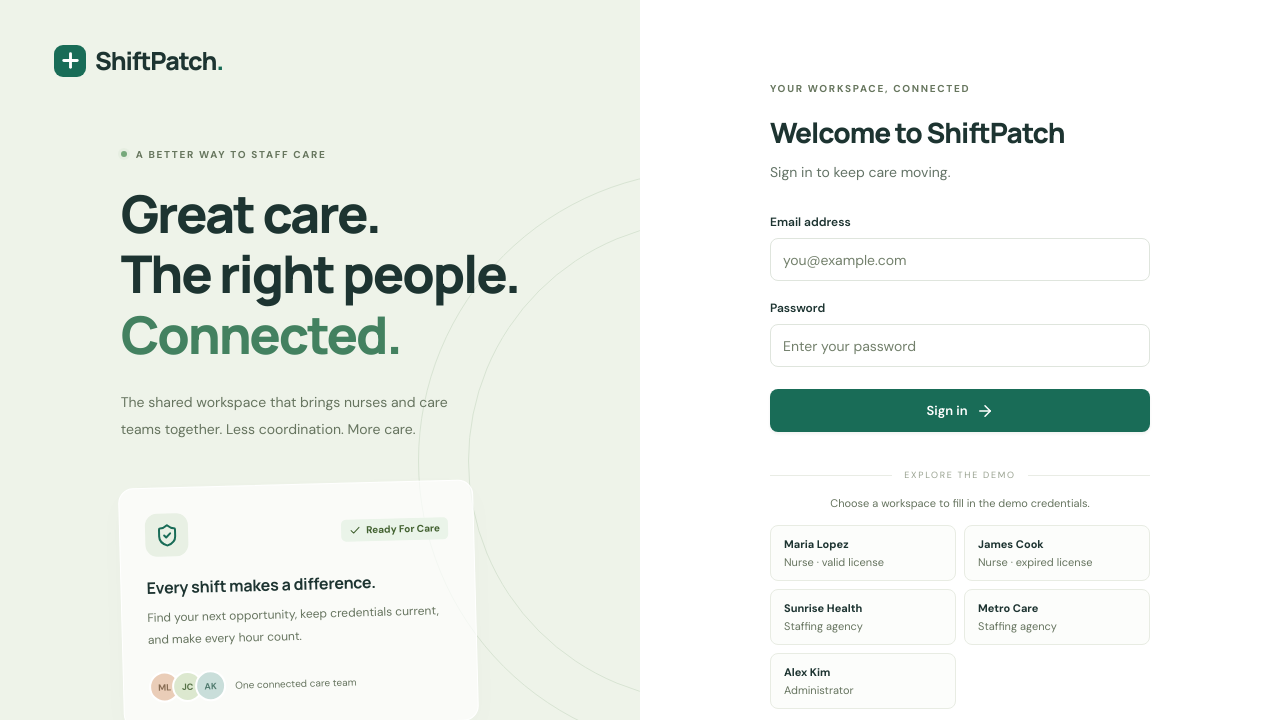
Test: frontend compatibility and user feedback › fills demo credentials without signing in automatically
Click the button "Maria Lopez Nurse · valid license".
click(863, 553)  # box [770,525,956,581]
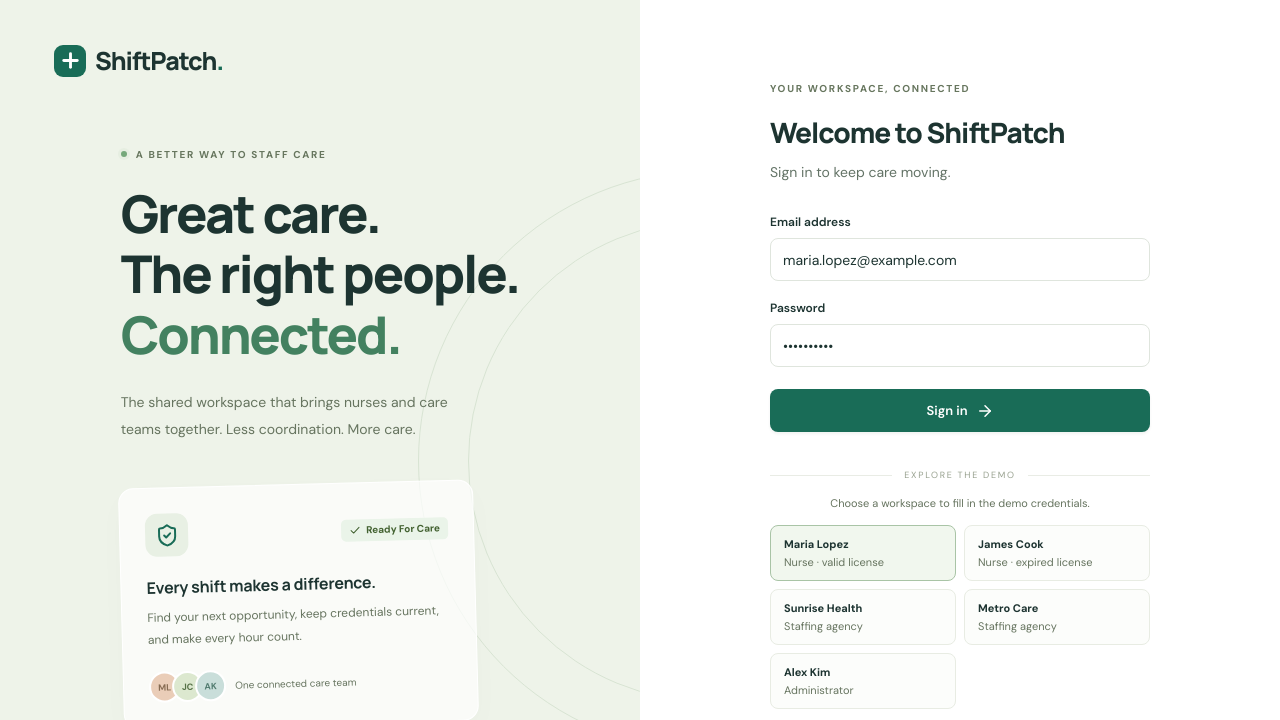
Expected: the button with test id "login-submit-button" reads "Sign in", [770,389,1150,432]
Now the field with test id "login-email-input" holds "maria.lopez@example.com", box [770,238,1150,281]
Now the password field with test id "login-password-input" holds "Trial2026!", box [770,324,1150,367]
